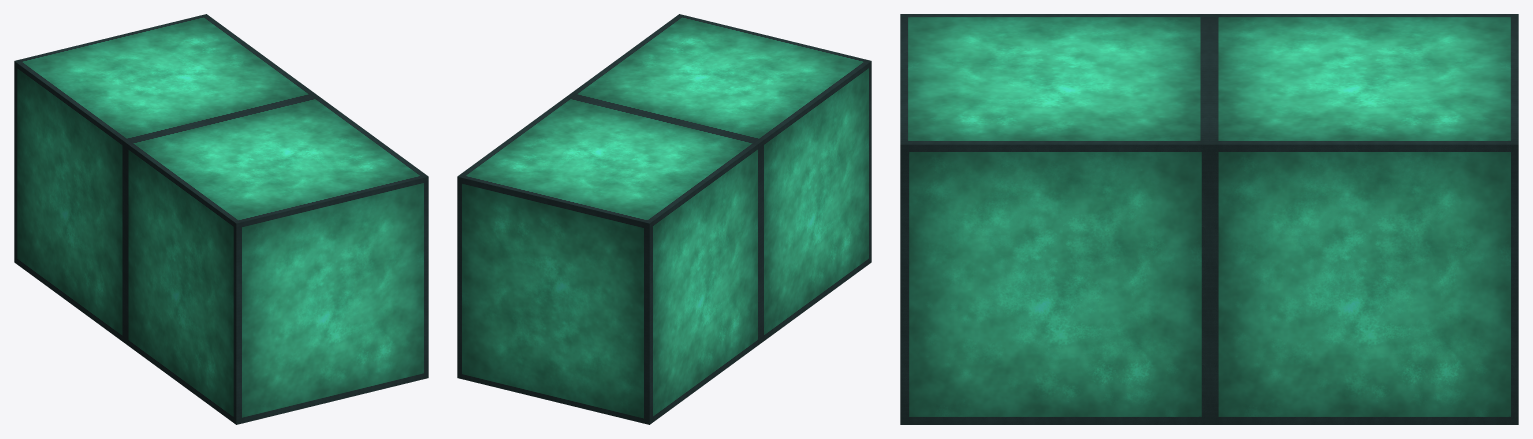
Rendered from MoveScaffoldStage1.glb.
3 renders of one model, left to right at view 1: azimuth 30°, elevation 25°; view 2: azimuth 150°, elevation 25°; view 3: azimuth 270°, elevation 25°, orthographic. The views are drawn at different scales.
Visible parts, largest first — view 1: MoveScaffoldStage0_0.001; view 2: MoveScaffoldStage0_0.001; view 3: MoveScaffoldStage0_0.001.
Part boxes in pixels (<box>): MoveScaffoldStage0_0.001: <box>14,14,428,424</box>; MoveScaffoldStage0_0.001: <box>457,14,871,424</box>; MoveScaffoldStage0_0.001: <box>900,14,1518,424</box>.
Bounding box in the file's own units: 20 × 20 × 40.
Materials: 1 (1 with a texture image).
